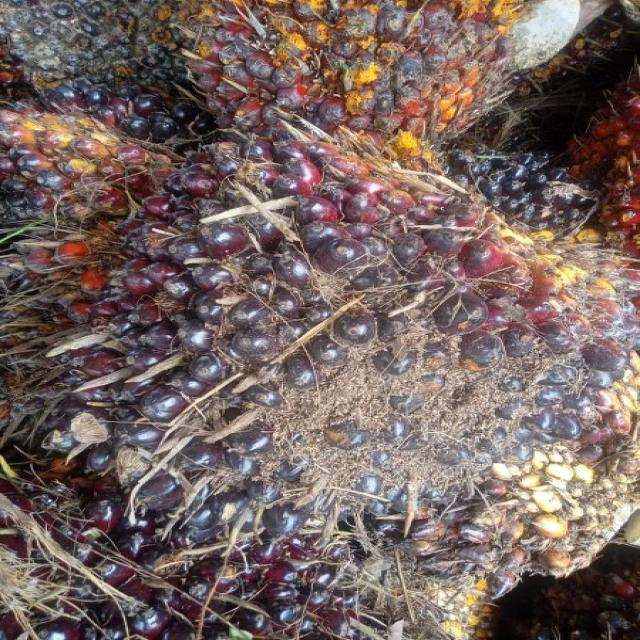fraksi 00: (57, 120, 640, 581)
